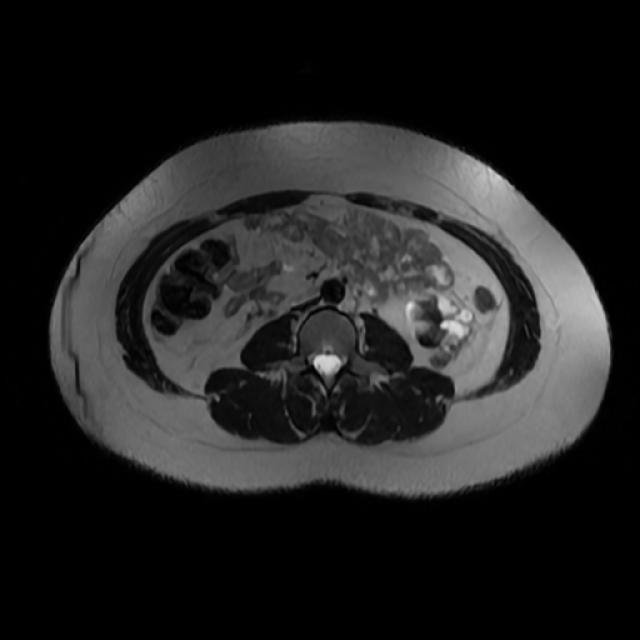sol: (404, 288, 478, 367)
